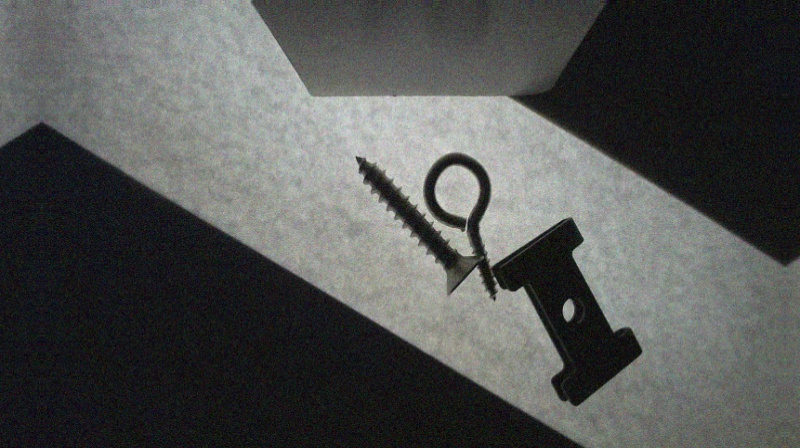O001: (422, 148, 497, 302)
O002: (493, 217, 645, 408)
S001: (355, 154, 482, 296)
